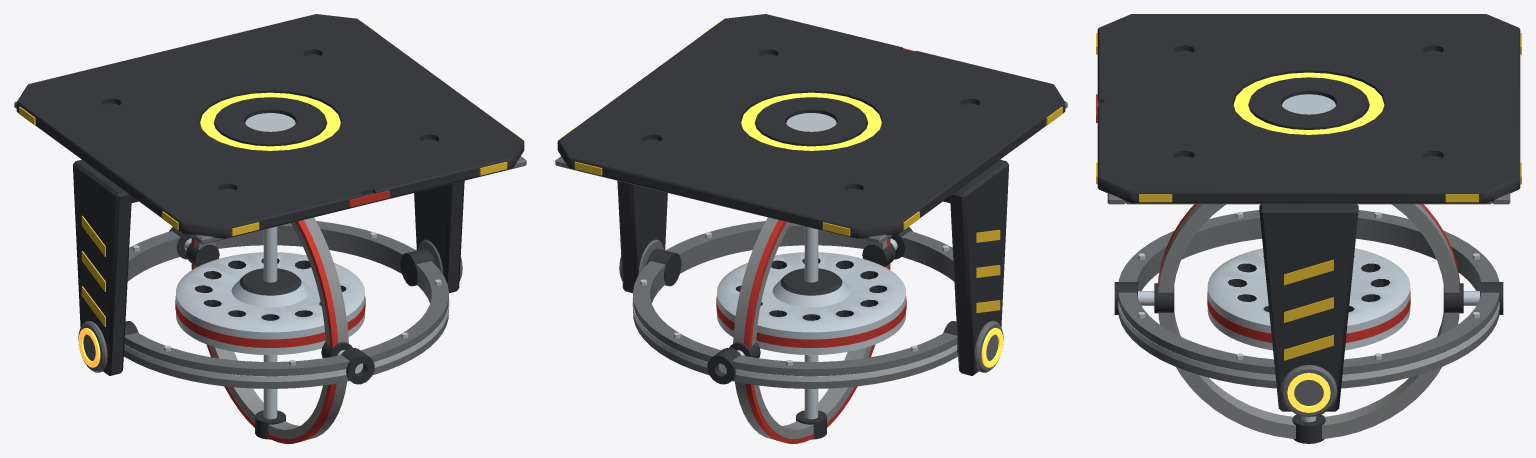
Rendered from R4M_Gyroscope.glb.
3 views of the same model, side by side, from view 1: azimuth 30°, elevation 25°; view 2: azimuth 150°, elevation 25°; view 3: azimuth 270°, elevation 25° (orthographic). The views are drawn at different scales.
Visible parts, largest first — view 1: R4M_Gyroscope_Yoke, R4M_Gyroscope_OuterRing, R4M_Gyroscope_Rotor, R4M_Gyroscope_InnerRing; view 2: R4M_Gyroscope_Yoke, R4M_Gyroscope_OuterRing, R4M_Gyroscope_Rotor, R4M_Gyroscope_InnerRing; view 3: R4M_Gyroscope_Yoke, R4M_Gyroscope_OuterRing, R4M_Gyroscope_InnerRing, R4M_Gyroscope_Rotor.
Part boxes in pixels (box(x1,y1,x2,y2)): R4M_Gyroscope_Yoke: box(14, 14, 526, 375); R4M_Gyroscope_OuterRing: box(123, 221, 449, 388); R4M_Gyroscope_Rotor: box(175, 226, 365, 419); R4M_Gyroscope_InnerRing: box(184, 217, 363, 443); R4M_Gyroscope_Yoke: box(555, 14, 1067, 375); R4M_Gyroscope_OuterRing: box(632, 221, 958, 388); R4M_Gyroscope_Rotor: box(716, 226, 906, 419); R4M_Gyroscope_InnerRing: box(718, 217, 897, 443); R4M_Gyroscope_Yoke: box(1096, 14, 1521, 416); R4M_Gyroscope_OuterRing: box(1114, 210, 1503, 388); R4M_Gyroscope_InnerRing: box(1138, 204, 1479, 443); R4M_Gyroscope_Rotor: box(1207, 248, 1410, 422).
Size of the model in its own units: 0.541 by 0.444 by 0.5126.
